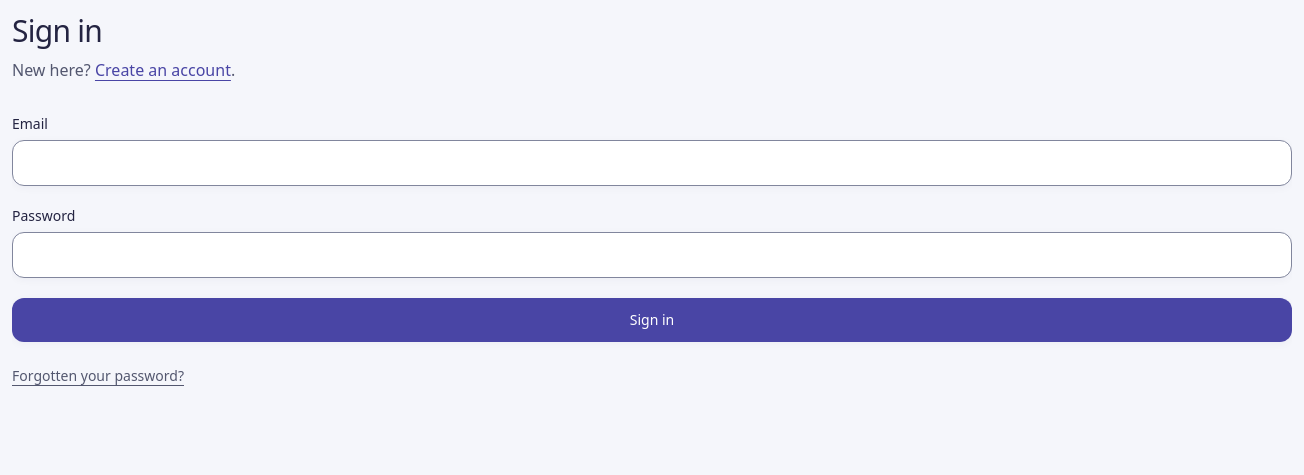
Scenario: what the page says when sign-in is refused › shows a different refusal too, so the message is echoed and not hardcoded
Type "learner@example.test" into the field labelled "Email" at (652,162), box [12,140,1292,186]
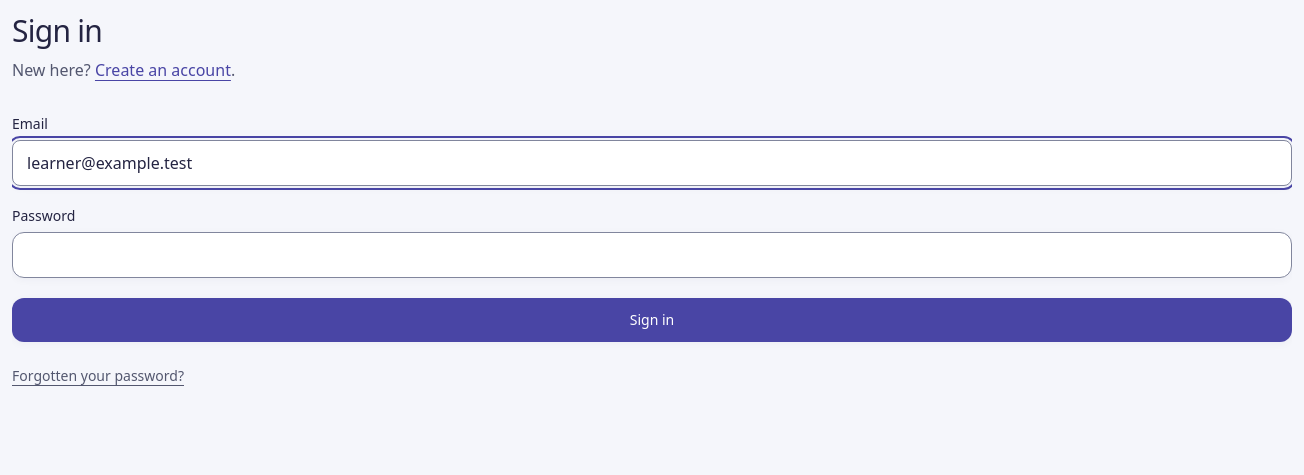
Type "correct horse" into the password field labelled "Password" at (652,254), box [12,232,1292,278]
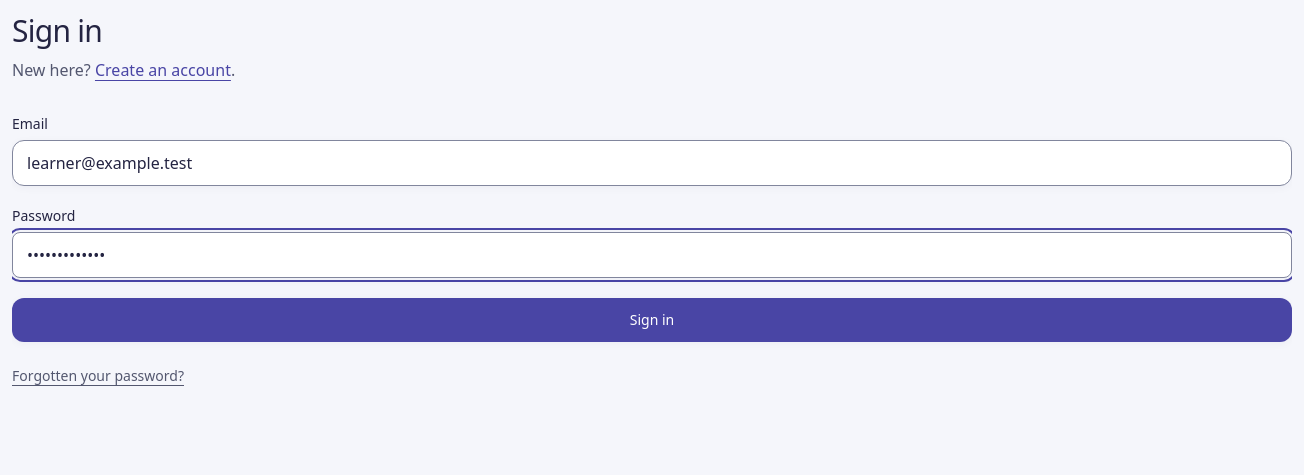
Click the button "Sign in" at (652,320), box [12,298,1292,342]
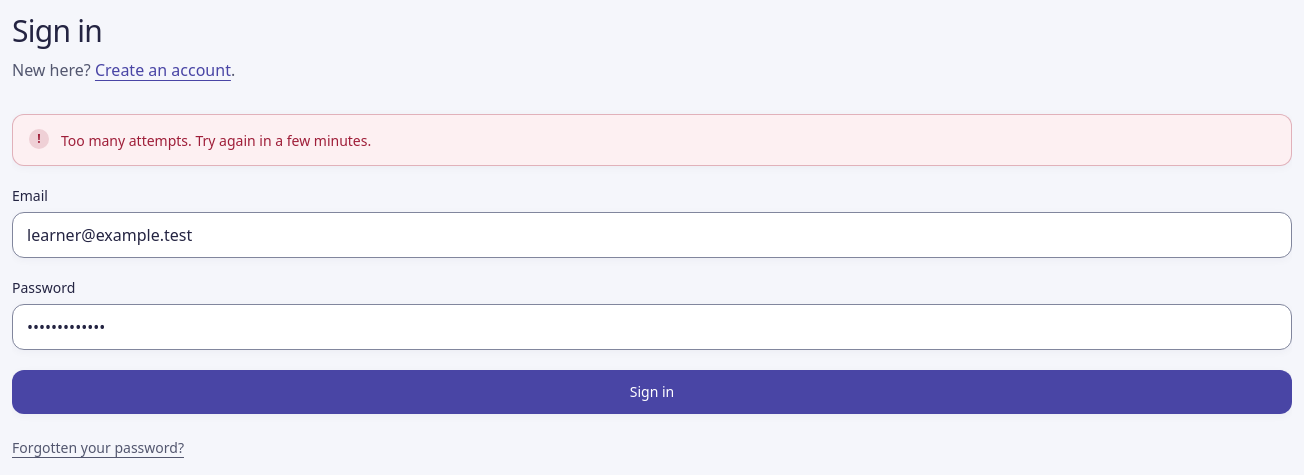
Expected: the text "Too many attempts. Try again in a few minutes." is shown, [61,130,371,150]
